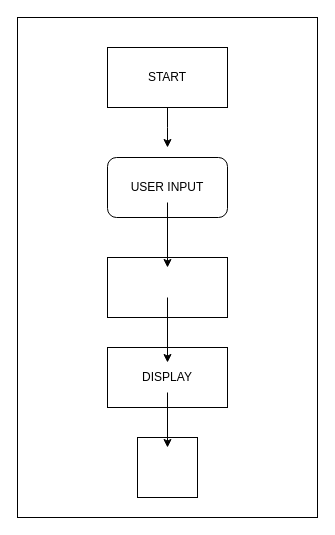
The diagram is 335 pixels wide and 535 high, and some of its shapes have lost their labels. The shapes that lost their labels are listed below. From the top down, each one's centre as x and y in pixels, then its label:
pixel 167 287: SUBTRACT
pixel 167 467: END
